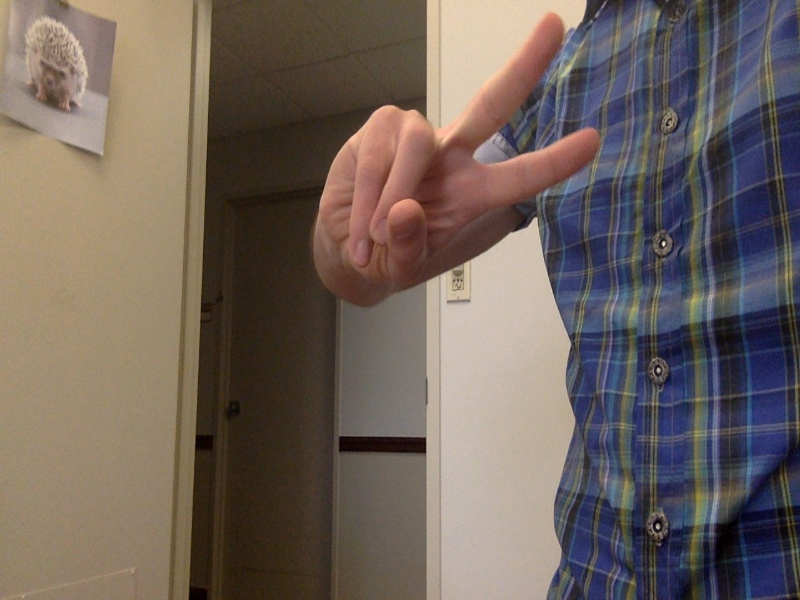2-hand: (318, 15, 596, 304)
